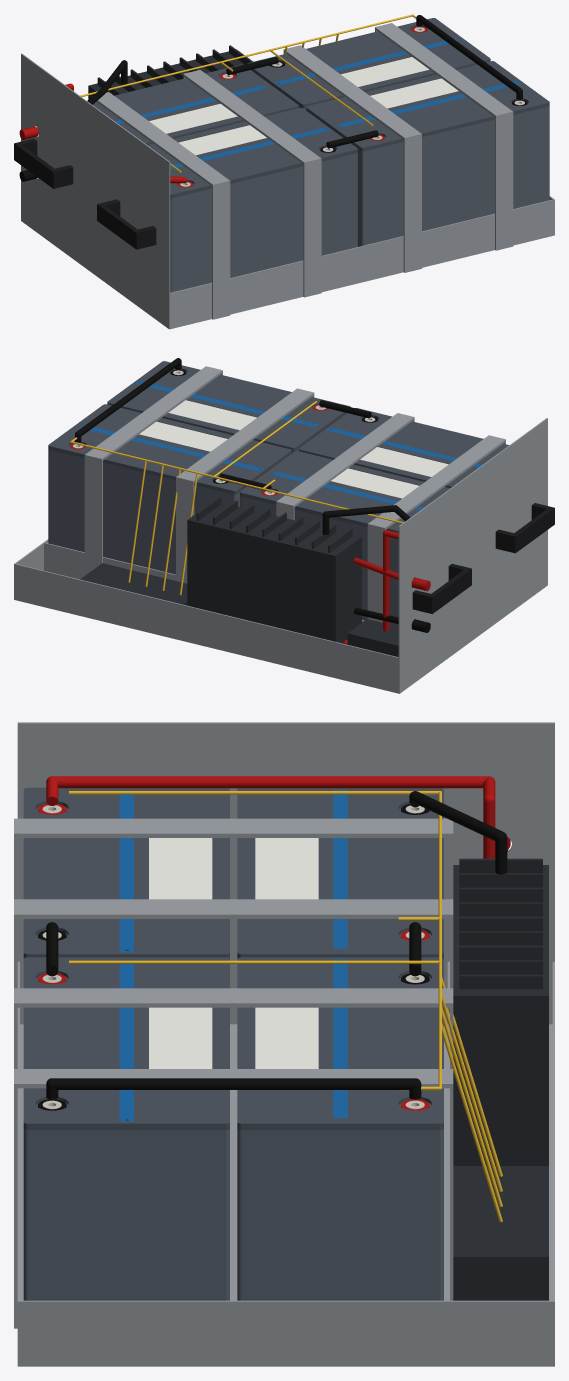
The model's file is r1_module48.glb.
The picture shows the model from 3 angles, top to bottom: view 1: azimuth 30°, elevation 25°; view 2: azimuth 150°, elevation 25°; view 3: azimuth 270°, elevation 25°; orthographic projection. The views are drawn at different scales.
Parts seen in each view (by area): view 1: Front panel, galvanised steel, Hold-down bar + 2 straps (steel) (×4), Monobloc 2: Case container, PP-GF20, 10 compartments + 9 par, Monobloc 1: Case container, PP-GF20, 10 compartments + 9 par, Tray, galvanised steel (base, rear and side lips, bay divide, Monobloc 2: Lid, PP-GF20, with 10 valve wells, vent manifold, Monobloc 3: Lid, PP-GF20, with 10 valve wells, vent manifold, Monobloc 1: Lid, PP-GF20, with 10 valve wells, vent manifold, Monobloc 4: Lid, PP-GF20, with 10 valve wells, vent manifold, Bidirectional DC/DC converter box (eff. 0.97 ASSUMPTION), Front pull handle R, Front pull handle L (+12 smaller); view 2: Front panel, galvanised steel, Bidirectional DC/DC converter box (eff. 0.97 ASSUMPTION), Tray, galvanised steel (base, rear and side lips, bay divide, Hold-down bar + 2 straps (steel) (×4), Monobloc 3: Case container, PP-GF20, 10 compartments + 9 par, Monobloc 3: Lid, PP-GF20, with 10 valve wells, vent manifold, Monobloc 2: Lid, PP-GF20, with 10 valve wells, vent manifold, Monobloc 1: Lid, PP-GF20, with 10 valve wells, vent manifold, Monobloc 4: Lid, PP-GF20, with 10 valve wells, vent manifold, Monobloc 4: Case container, PP-GF20, 10 compartments + 9 par, Module BMS enclosure (16-ch monitor board, CAN 2.0B), Front pull handle L (+17 smaller); view 3: Tray, galvanised steel (base, rear and side lips, bay divide, Front panel, galvanised steel, Monobloc 2: Case container, PP-GF20, 10 compartments + 9 par, Monobloc 3: Case container, PP-GF20, 10 compartments + 9 par, Hold-down bar + 2 straps (steel) (×4), Bidirectional DC/DC converter box (eff. 0.97 ASSUMPTION), Monobloc 2: Lid, PP-GF20, with 10 valve wells, vent manifold, Monobloc 3: Lid, PP-GF20, with 10 valve wells, vent manifold, Monobloc 1: Lid, PP-GF20, with 10 valve wells, vent manifold, Monobloc 4: Lid, PP-GF20, with 10 valve wells, vent manifold, Module BMS enclosure (16-ch monitor board, CAN 2.0B), Module + lead to fuse (+14 smaller).
Boxes of the visible parts, x1,y1,x2,y2 form: Front panel, galvanised steel: [21, 53, 170, 328]; Hold-down bar + 2 straps (steel) (×4): [92, 23, 513, 319]; Monobloc 2: Case container, PP-GF20, 10 compartments + 9 par: [358, 106, 549, 246]; Monobloc 1: Case container, PP-GF20, 10 compartments + 9 par: [170, 152, 357, 292]; Tray, galvanised steel (base, rear and side lips, bay divide: [21, 196, 554, 329]; Monobloc 2: Lid, PP-GF20, with 10 valve wells, vent manifold: [306, 61, 549, 151]; Monobloc 3: Lid, PP-GF20, with 10 valve wells, vent manifold: [247, 18, 490, 108]; Monobloc 1: Lid, PP-GF20, with 10 valve wells, vent manifold: [147, 108, 357, 198]; Monobloc 4: Lid, PP-GF20, with 10 valve wells, vent manifold: [93, 64, 298, 144]; Bidirectional DC/DC converter box (eff. 0.97 ASSUMPTION): [88, 45, 252, 99]; Front pull handle R: [14, 138, 73, 188]; Front pull handle L: [97, 199, 156, 249]; Front panel, galvanised steel: [398, 418, 547, 692]; Bidirectional DC/DC converter box (eff. 0.97 ASSUMPTION): [187, 496, 361, 643]; Tray, galvanised steel (base, rear and side lips, bay divide: [14, 539, 547, 693]; Hold-down bar + 2 straps (steel) (×4): [84, 366, 505, 622]; Monobloc 3: Case container, PP-GF20, 10 compartments + 9 par: [48, 449, 239, 574]; Monobloc 3: Lid, PP-GF20, with 10 valve wells, vent manifold: [48, 404, 291, 494]; Monobloc 2: Lid, PP-GF20, with 10 valve wells, vent manifold: [107, 361, 350, 451]; Monobloc 1: Lid, PP-GF20, with 10 valve wells, vent manifold: [299, 408, 509, 488]; Monobloc 4: Lid, PP-GF20, with 10 valve wells, vent manifold: [240, 451, 449, 532]; Monobloc 4: Case container, PP-GF20, 10 compartments + 9 par: [240, 496, 415, 629]; Module BMS enclosure (16-ch monitor board, CAN 2.0B): [80, 563, 187, 605]; Front pull handle L: [495, 503, 554, 553]; Tray, galvanised steel (base, rear and side lips, bay divide: [17, 961, 554, 1366]; Front panel, galvanised steel: [17, 722, 554, 1024]; Monobloc 2: Case container, PP-GF20, 10 compartments + 9 par: [23, 1129, 229, 1300]; Monobloc 3: Case container, PP-GF20, 10 compartments + 9 par: [237, 1129, 443, 1300]; Hold-down bar + 2 straps (steel) (×4): [14, 818, 453, 1328]; Bidirectional DC/DC converter box (eff. 0.97 ASSUMPTION): [453, 858, 548, 1165]; Monobloc 2: Lid, PP-GF20, with 10 valve wells, vent manifold: [23, 957, 229, 1130]; Monobloc 3: Lid, PP-GF20, with 10 valve wells, vent manifold: [237, 957, 443, 1130]; Monobloc 1: Lid, PP-GF20, with 10 valve wells, vent manifold: [23, 787, 229, 958]; Monobloc 4: Lid, PP-GF20, with 10 valve wells, vent manifold: [237, 788, 443, 958]; Module BMS enclosure (16-ch monitor board, CAN 2.0B): [453, 1166, 548, 1300]; Module + lead to fuse: [46, 776, 495, 858].
Size of the model in its own units: 0.711 by 0.28 by 0.453.
